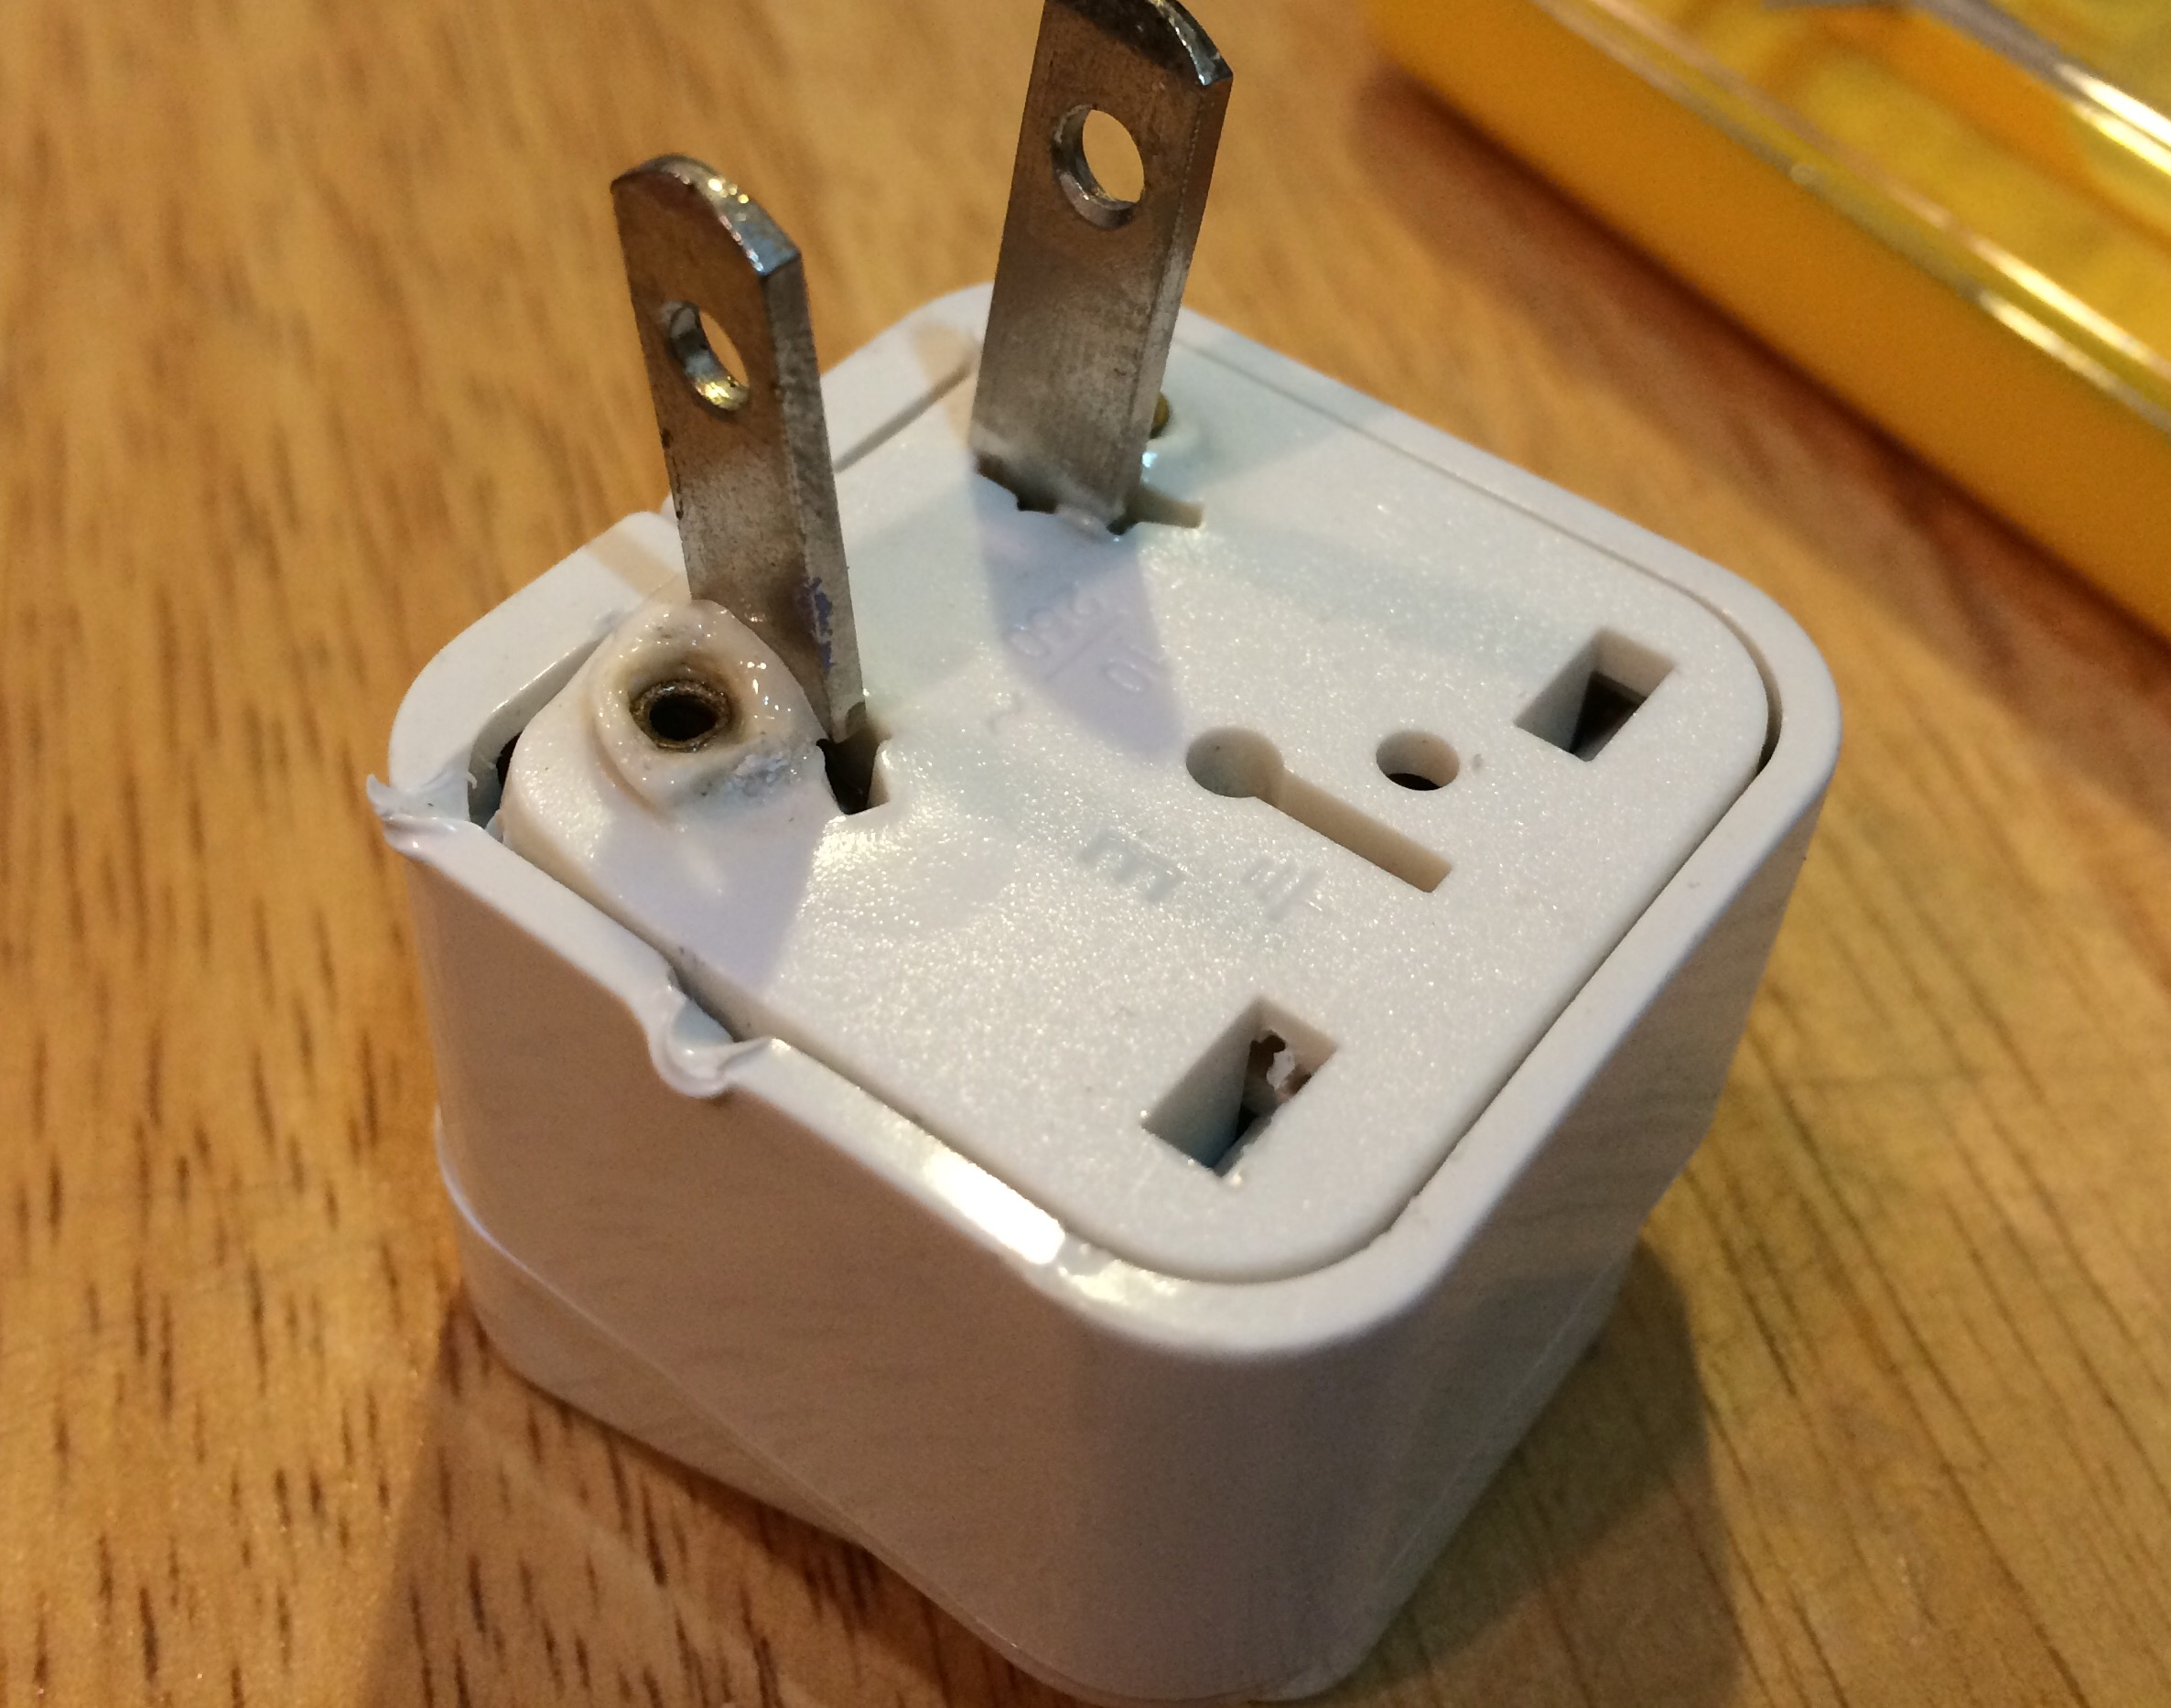Three_eye_plug: (319, 4, 1886, 1708)
